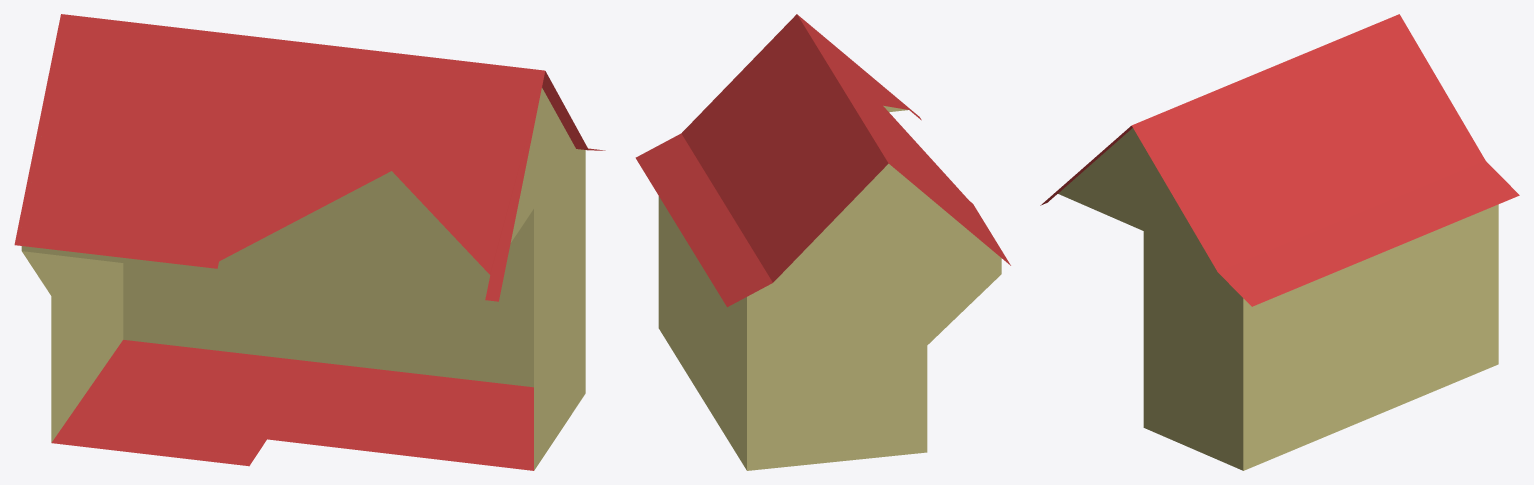
The picture shows the model from 3 angles, left to right: view 1: azimuth 30°, elevation 25°; view 2: azimuth 150°, elevation 25°; view 3: azimuth 270°, elevation 25°; orthographic projection. The views are drawn at different scales.
Bounding box in the file's own units: 21.66 × 21.7 × 15.14.
